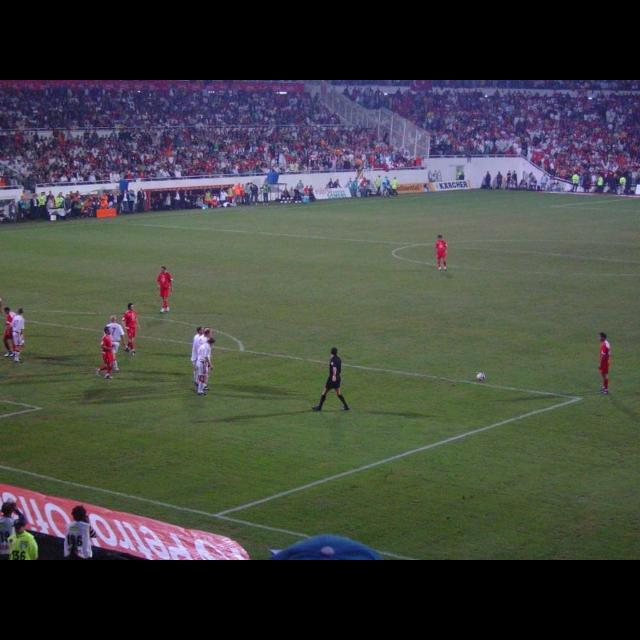Football: (476, 372, 484, 378)
